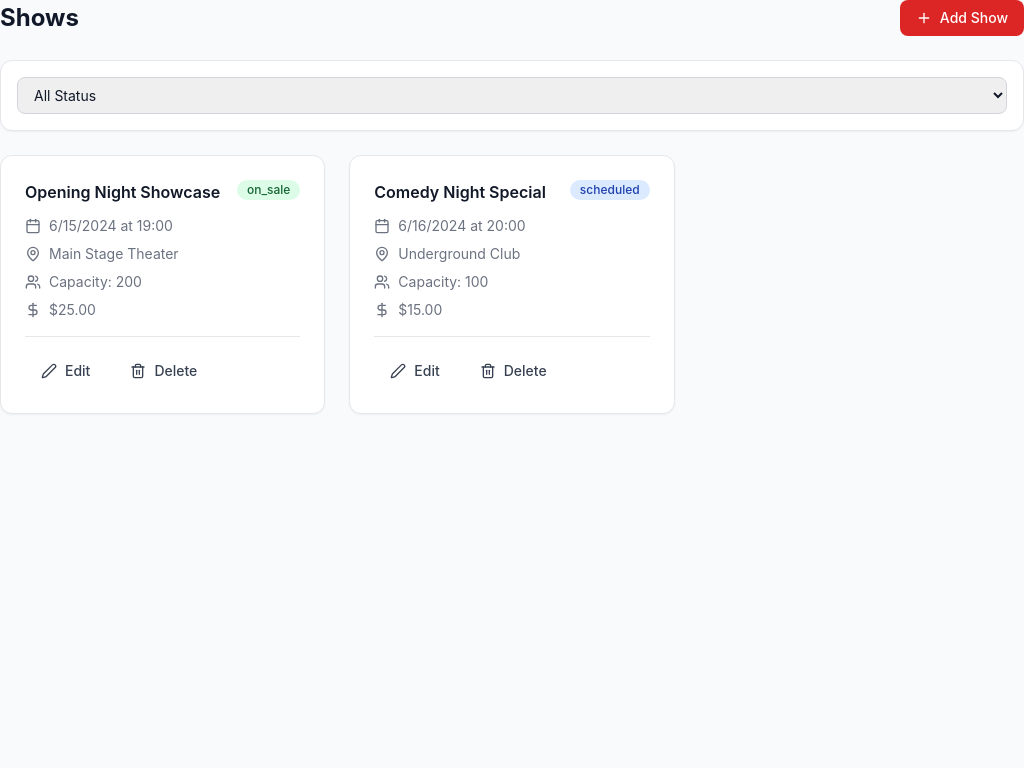
Shows › add show modal › opens modal when clicking Add Show
Click the button "Add Show".
click(962, 18)  # box [900, 0, 1023, 36]
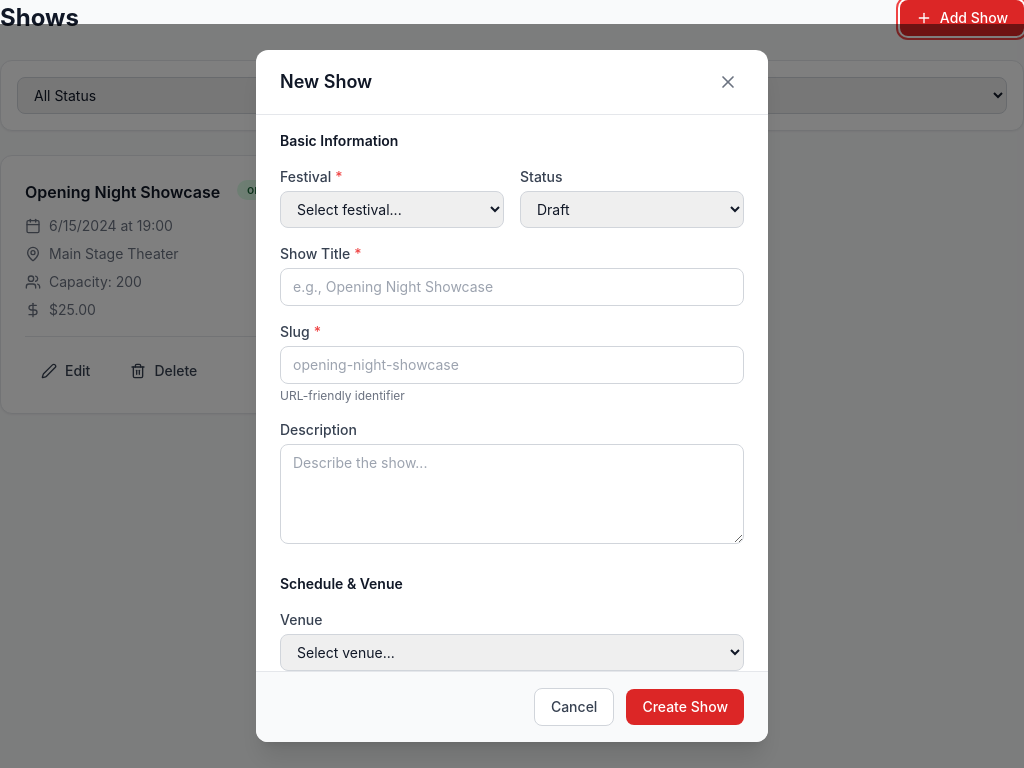
Expected: the heading "New Show" is shown, [280, 68, 372, 96]
